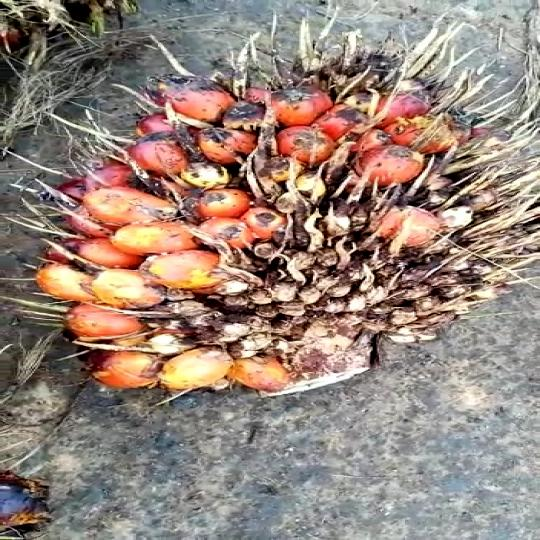masak: (19, 43, 540, 413)
